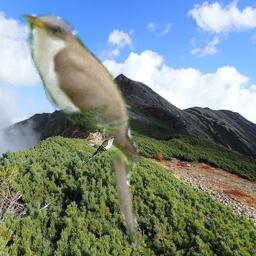Cuckoo: (14, 7, 147, 254), (82, 136, 117, 166)
